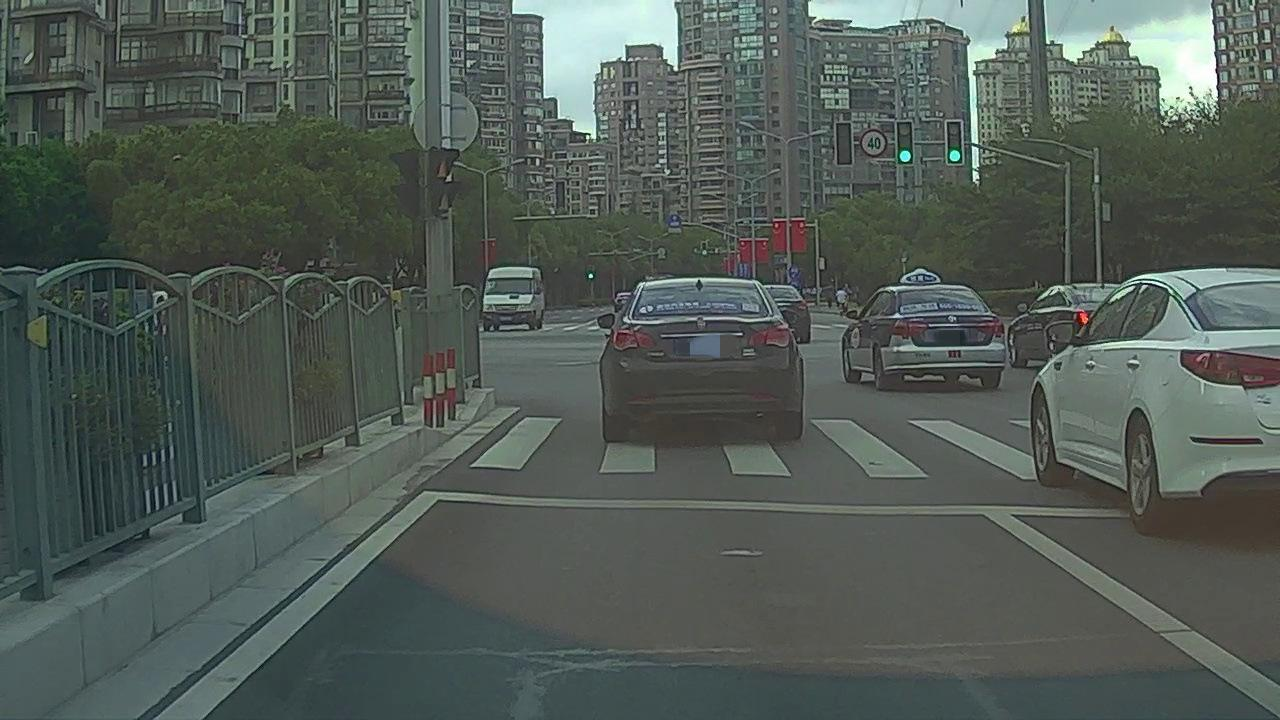traffic_light: (836, 123, 853, 167), (896, 120, 913, 163), (947, 122, 964, 165)
